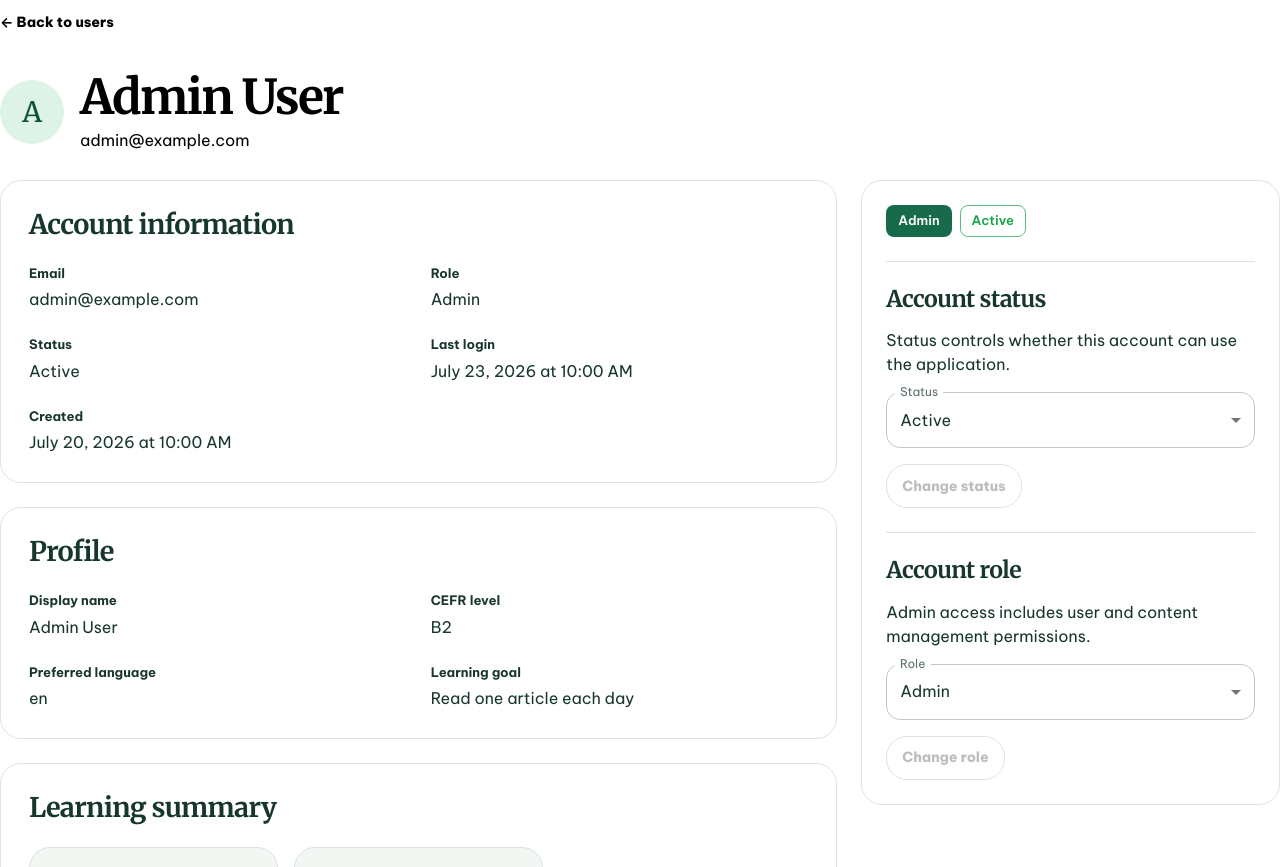
Test: Admin user change confirmation › waits for confirmation before changing account status
Expected: the heading "Admin User" is shown, [80, 72, 343, 124]
Click the dropdown named "Status": (926, 420) [900, 410, 951, 430]
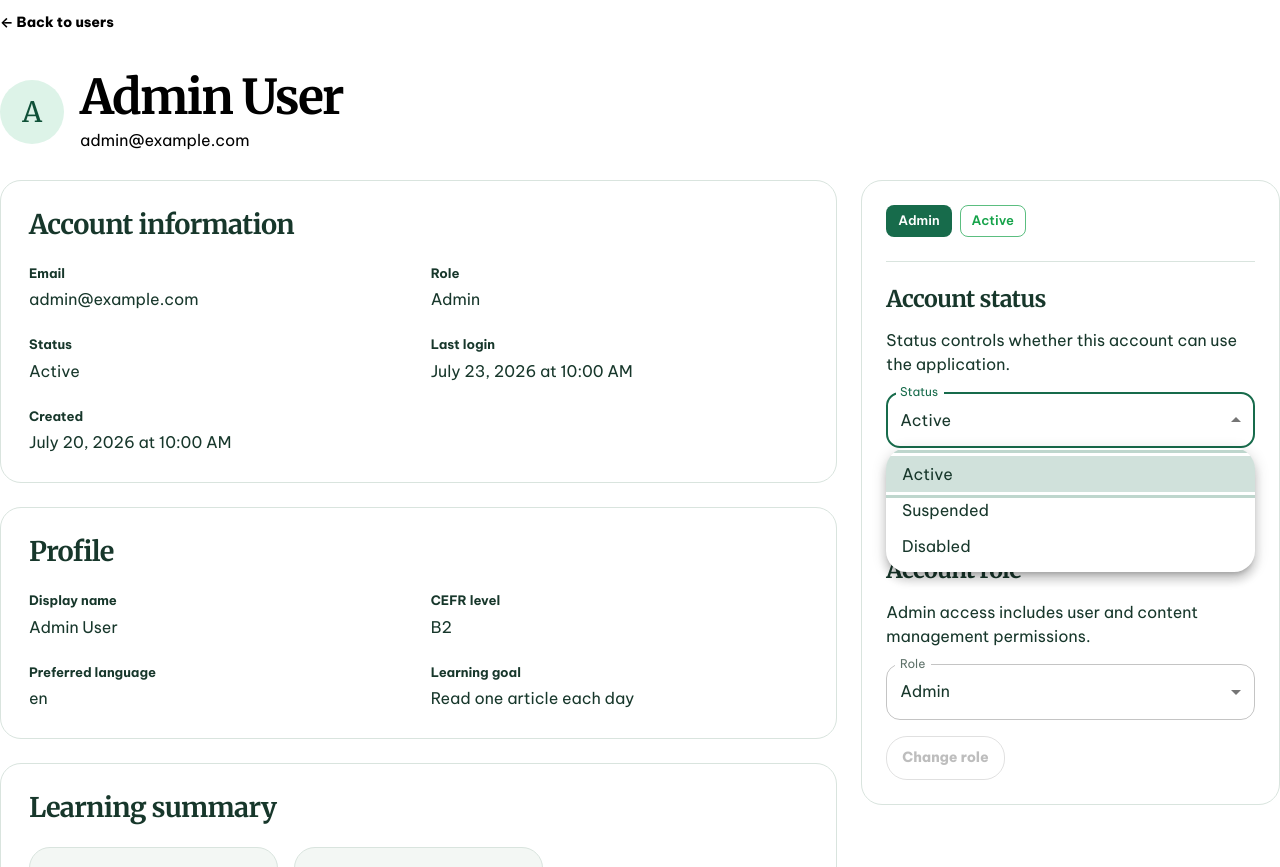
Click the option "Disabled": (936, 546) [902, 536, 971, 556]
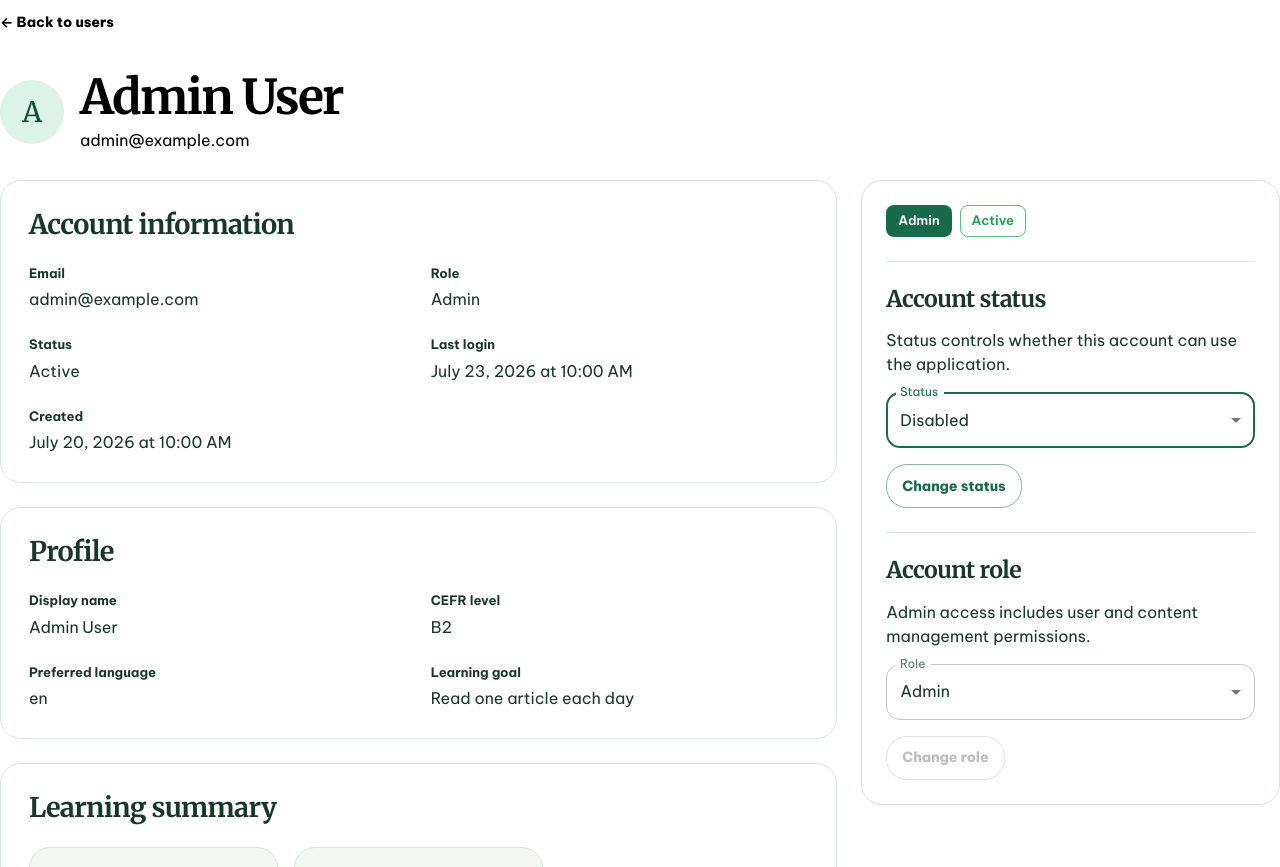
Click the button "Change status": (954, 486) [886, 464, 1022, 508]
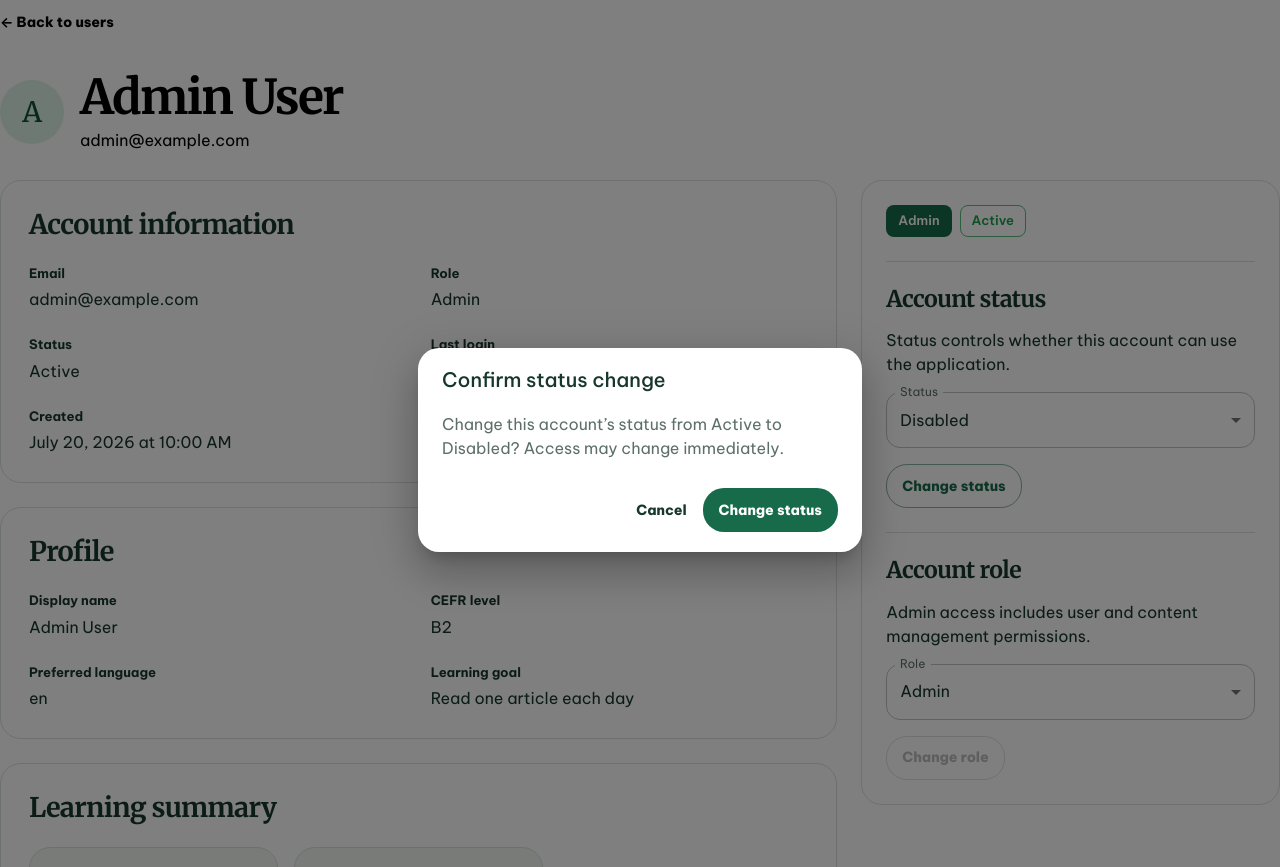
Click the button "Change status": (770, 510) [703, 488, 838, 532]
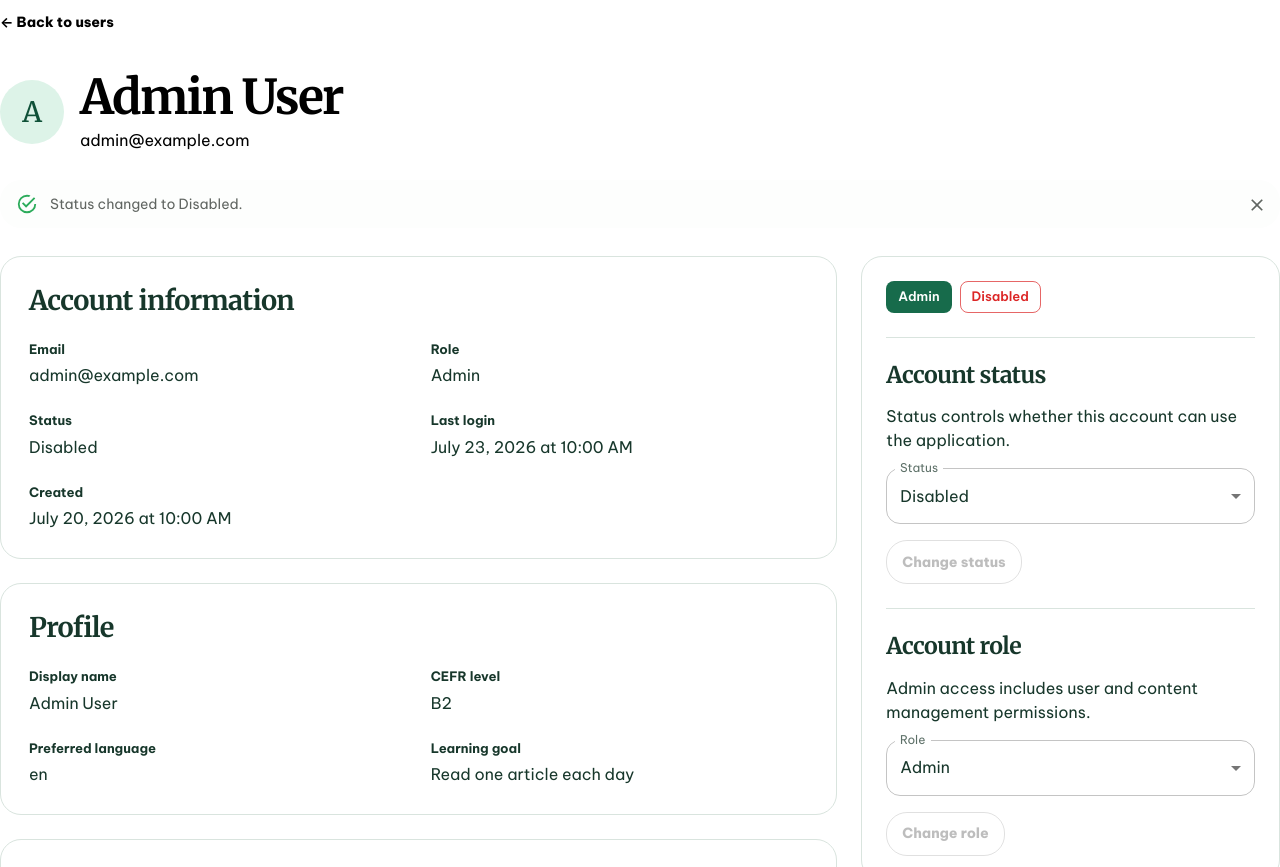
Now the text "Status changed to Disabled." is shown, box [50, 195, 243, 213]
